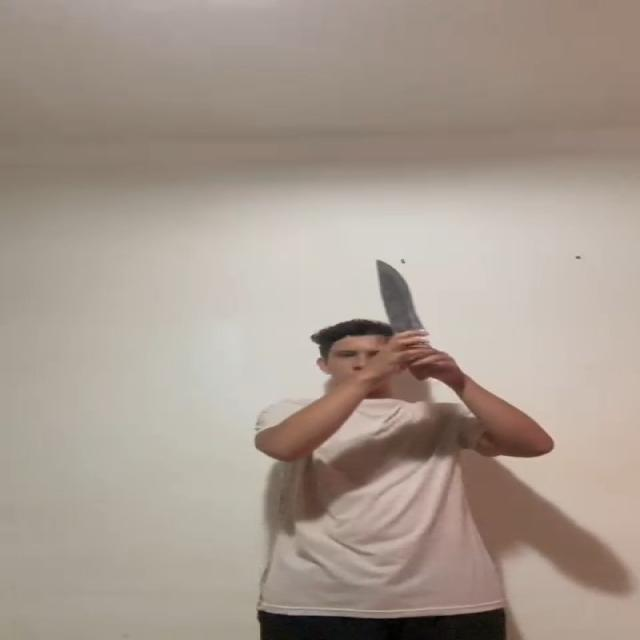knife: (371, 256, 418, 331)
